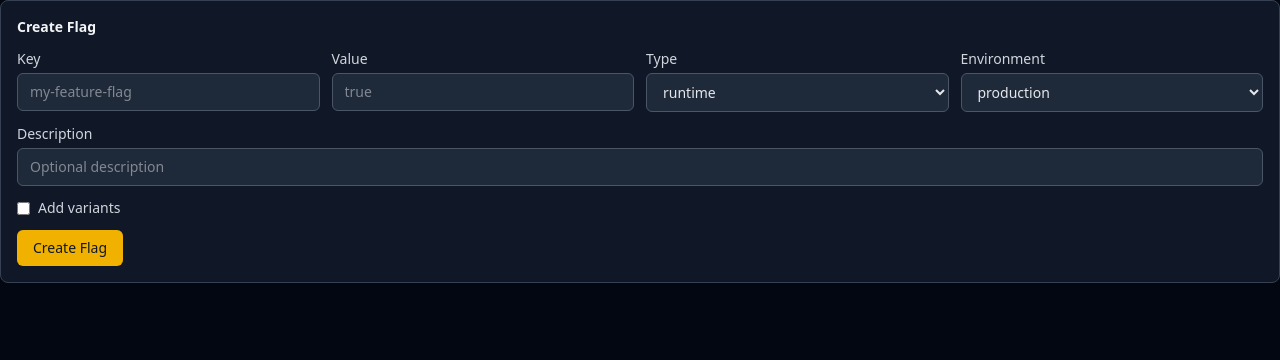
Test: CreateFlagForm › hides variant editor when checkbox is unchecked
Click the checkbox labelled "Add variants" at (24, 208), box [17,202,30,214]
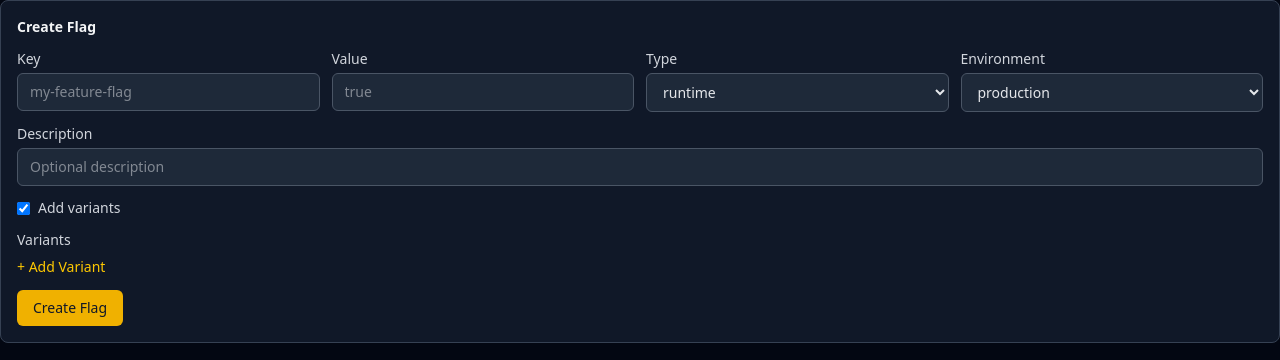
Check: the button "+ Add Variant" is shown, box [17,257,105,277]
Click the checkbox labelled "Add variants" at (24, 208), box [17,202,30,214]
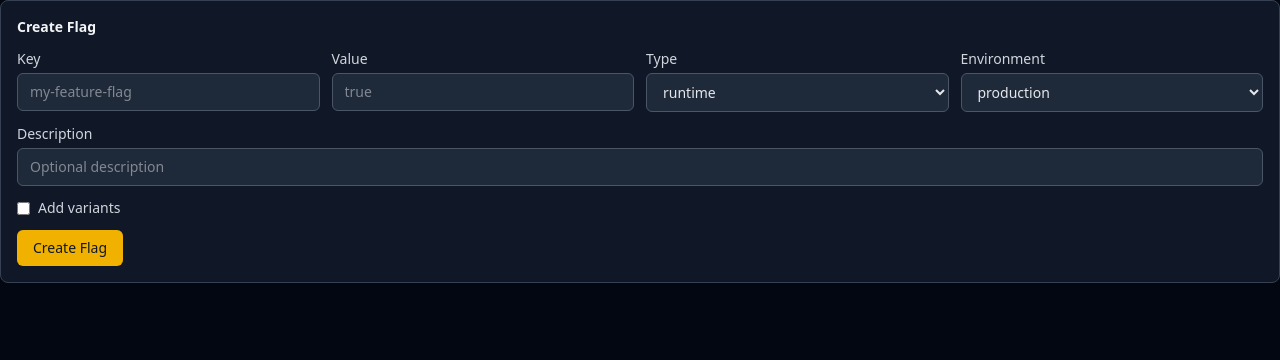
Check: the button "+ Add Variant" is gone
